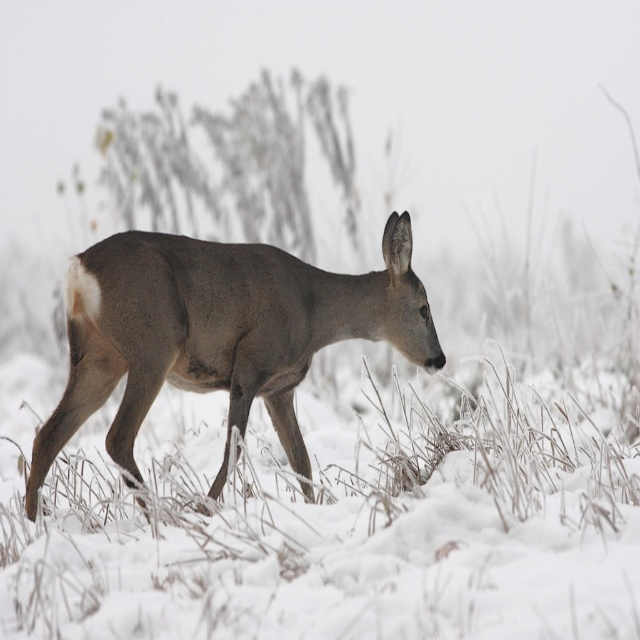Deer: (23, 210, 446, 524)
